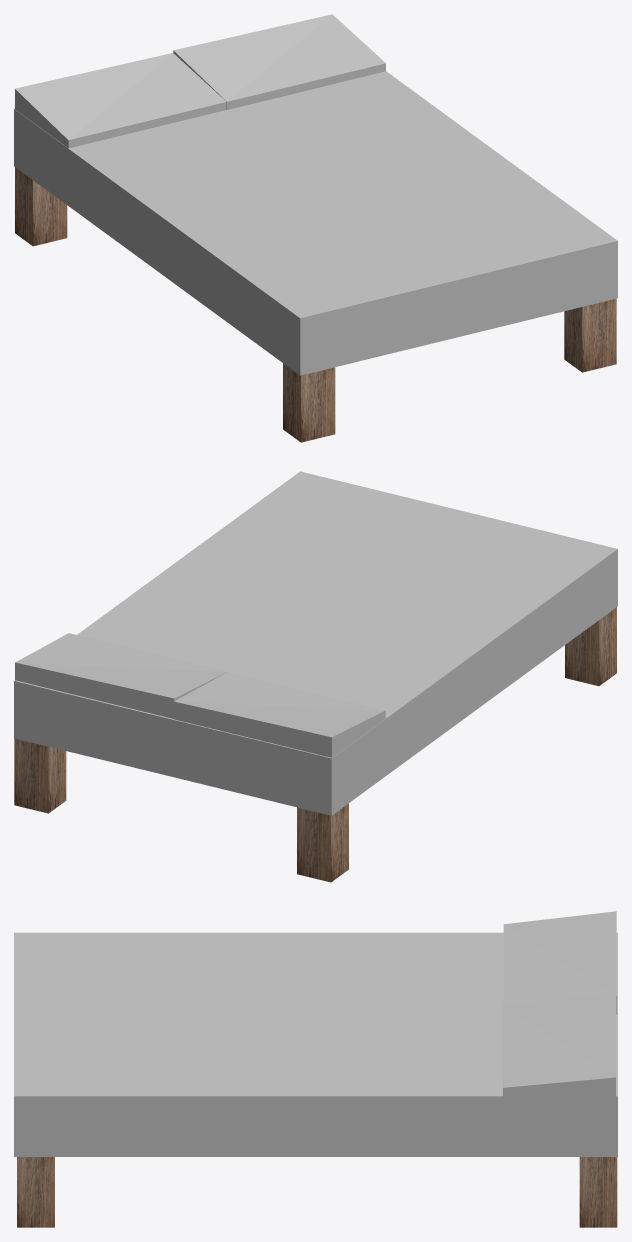
Rendered from cama.obj.
The picture shows the model from 3 angles, top to bottom: view 1: azimuth 30°, elevation 25°; view 2: azimuth 150°, elevation 25°; view 3: azimuth 270°, elevation 25°; orthographic projection. The views are drawn at different scales.
Visible parts, largest first — view 1: Cube_Cube.001, Cube.005_Cube.008, Cube.006_Cube.009, Cube.004_Cube.005, Cube.001_Cube.002, Cube.003_Cube.004; view 2: Cube_Cube.001, Cube.005_Cube.008, Cube.006_Cube.009, Cube.003_Cube.004, Cube.002_Cube.003, Cube.004_Cube.005; view 3: Cube_Cube.001, Cube.006_Cube.009, Cube.005_Cube.008, Cube.002_Cube.003, Cube.001_Cube.002.
Boxes of the visible parts, box(x1,y1,x2,y2) form: Cube_Cube.001: box(14, 71, 617, 375); Cube.005_Cube.008: box(15, 53, 226, 148); Cube.006_Cube.009: box(173, 14, 385, 109); Cube.004_Cube.005: box(283, 363, 335, 442); Cube.001_Cube.002: box(564, 298, 616, 372); Cube.003_Cube.004: box(15, 167, 67, 246); Cube_Cube.001: box(14, 471, 617, 815); Cube.005_Cube.008: box(173, 672, 385, 757); Cube.006_Cube.009: box(15, 633, 227, 718); Cube.003_Cube.004: box(297, 803, 348, 882); Cube.002_Cube.003: box(14, 738, 66, 813); Cube.004_Cube.005: box(565, 607, 616, 686); Cube_Cube.001: box(14, 932, 617, 1156); Cube.006_Cube.009: box(503, 992, 615, 1096); Cube.005_Cube.008: box(503, 911, 616, 1014); Cube.002_Cube.003: box(579, 1157, 617, 1227); Cube.001_Cube.002: box(17, 1157, 54, 1227).
Bounding box in the file's own units: 0.9134 × 0.3986 × 1.43.
